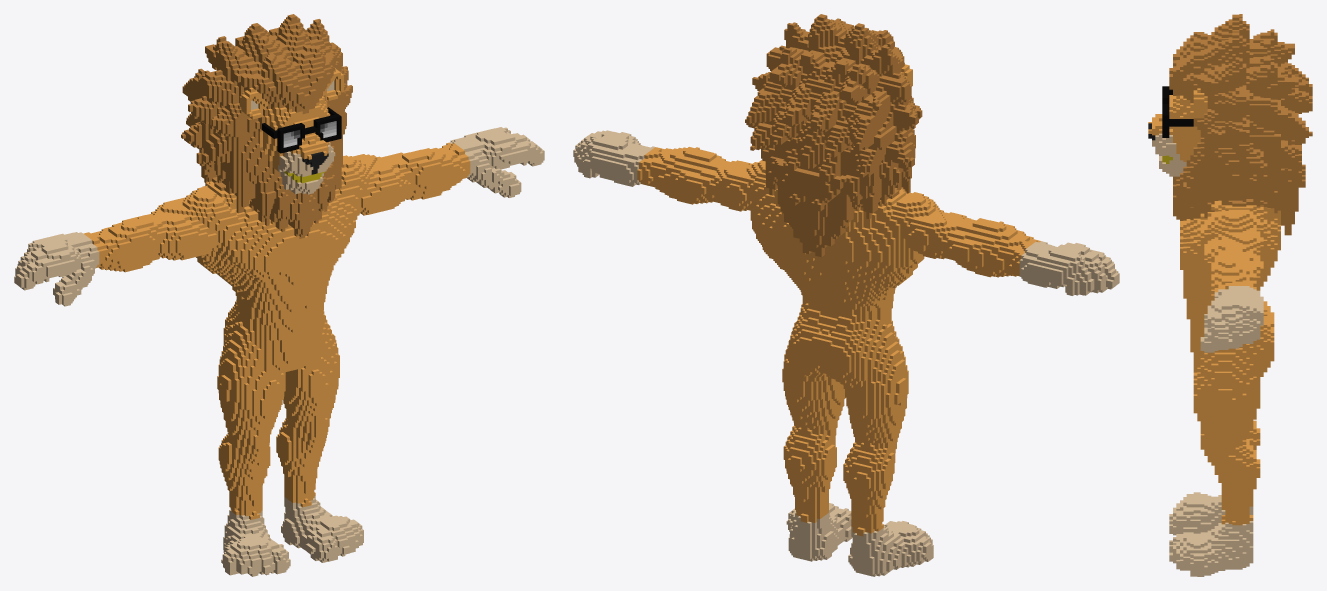
File: 624-BdVMme5i.fbx
3 renders of one model, left to right at view 1: azimuth 30°, elevation 25°; view 2: azimuth 150°, elevation 25°; view 3: azimuth 270°, elevation 25°, orthographic. The views are drawn at different scales.
Visible parts, largest first — view 1: gold_smile; view 2: gold_smile; view 3: gold_smile.
Boxes of the visible parts, x1,y1,x2,y2 form: gold_smile: [14, 14, 544, 576]; gold_smile: [573, 14, 1119, 576]; gold_smile: [1148, 14, 1312, 576].
Size of the model in its own units: 17.2 by 16.5 by 4.7.
4 materials, 4 textured.
